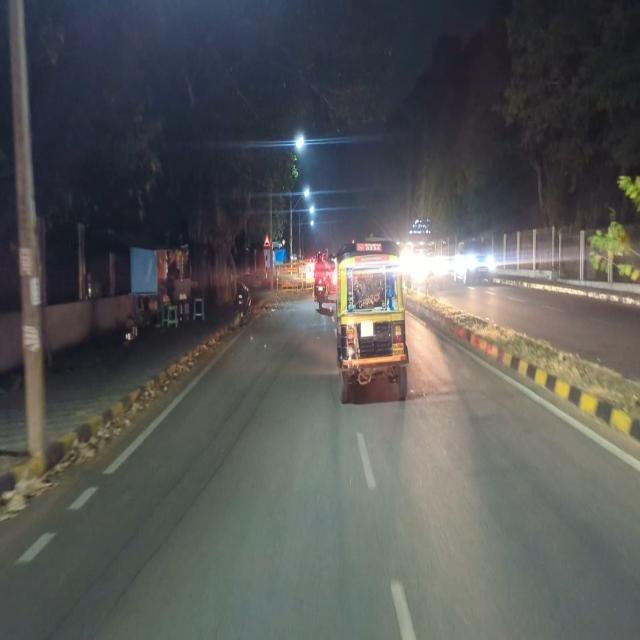bien_cam: (262, 232, 271, 249)
